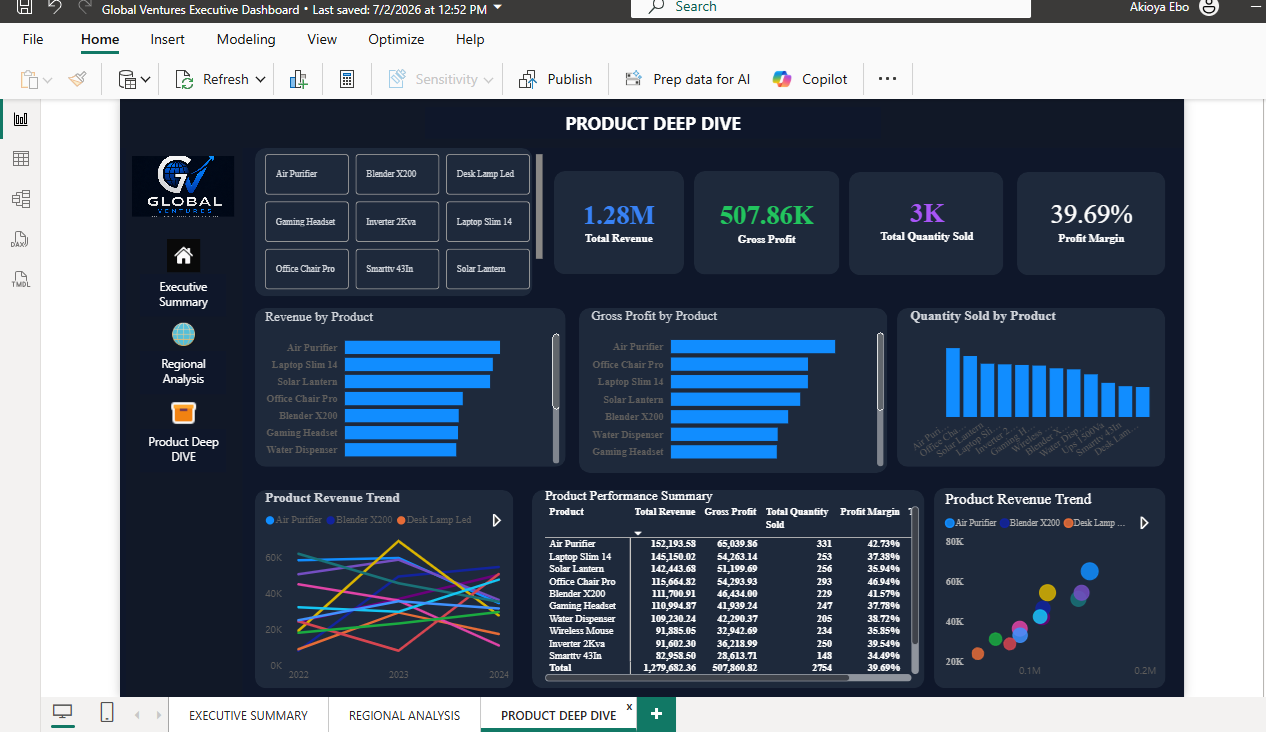

The dashboard page shown, as its layout file describes it:
{"tool":"powerbi","page":{"name":"PRODUCT DEEP DIVE","canvas":[1280,720],"ordinal":2},"visuals":[{"type":"shape","box":[0,0,1280,58.8],"z":0,"group":"g2"},{"type":"group","id":"g1","title":"Group 1","box":[7.8,0,140,720],"z":0,"group":"g15"},{"type":"shape","box":[7.8,0,140,720],"z":0,"group":"g1"},{"type":"group","id":"g2","title":"Group 3","box":[0,0,1280,58.8],"z":1000,"group":"g15"},{"type":"textbox","box":[366.7,10,548.9,37.8],"z":1000,"group":"g2"},{"type":"group","id":"g3","title":"Group 4","box":[162.9,58.6,351.6,178.6],"z":2000,"group":"g15"},{"type":"shape","box":[523.3,86.7,156.7,124.4],"z":2000,"group":"g4"},{"type":"image","box":[15.6,68.9,123.3,73.3],"z":3000,"group":"g14"},{"type":"group","id":"g4","title":"Group 5","box":[523,86.7,157,127],"z":3000,"group":"g15"},{"type":"shape","box":[691.4,86.7,175.2,124.7],"z":3000,"group":"g5"},{"type":"group","id":"g5","title":"Group 6","box":[691,86.7,175.7,125.9],"z":4000,"group":"g15"},{"type":"shape","box":[1080,88.5,178.6,124.3],"z":4000,"group":"g7"},{"type":"image","box":[57.8,168.9,40,40],"z":4000,"group":"g14"},{"type":"group","id":"g6","title":"Group 7","box":[877.1,84.4,185.7,128.4],"z":5000,"group":"g15"},{"type":"textbox","box":[25.6,211.3,104.4,51.1],"z":5000,"group":"g14"},{"type":"group","id":"g7","title":"Group 8","box":[1080,87.1,178.6,125.7],"z":6000,"group":"g15"},{"type":"shape","box":[935.7,251.4,322.9,191.4],"z":6000,"group":"g8"},{"type":"image","box":[57.8,264.9,40,36.7],"z":6000,"group":"g14"},{"type":"group","id":"g8","title":"Group 9","box":[935.7,251.1,322.9,192.2],"z":7000,"group":"g15"},{"type":"shape","box":[162.9,251.4,374.3,191.4],"z":7000,"group":"g10"},{"type":"textbox","box":[25.6,304,104.4,52.2],"z":7000,"group":"g14"},{"type":"group","id":"g9","title":"Group 10","box":[552.9,251.1,371.6,198.9],"z":8000,"group":"g15"},{"type":"shape","box":[552.9,251.4,371.4,198.6],"z":8000,"group":"g9"},{"type":"image","box":[57.8,358.7,40,36.7],"z":8000,"group":"g14"},{"type":"group","id":"g10","title":"Group 11","box":[162.9,251.4,374.3,191.9],"z":9000,"group":"g15"},{"type":"textbox","box":[25.6,397.8,104.4,52.2],"z":9000,"group":"g14"},{"type":"shape","box":[162.5,471.2,311.2,238.8],"z":9000,"group":"g13"},{"type":"group","id":"g11","title":"Group 12","box":[980,468.8,278.8,241.2],"z":10000,"group":"g15"},{"type":"shape","box":[496.2,471.3,472.5,238.8],"z":10000,"group":"g12"},{"type":"shape","box":[980,468.8,278.8,241.2],"z":11000,"group":"g11"},{"type":"group","id":"g12","title":"Group 13","box":[496.2,468.9,472.5,241.1],"z":11000,"group":"g15"},{"type":"shape","box":[162.9,58.6,334.3,178.6],"z":12000,"group":"g3"},{"type":"group","id":"g13","title":"Group 14","box":[162.5,471.1,311.2,238.9],"z":12000,"group":"g15"},{"type":"cardVisual","fields":{"Data":["My Measures.Total Revenue"]},"box":[523,87.1,156.7,126.7],"z":13000,"group":"g4"},{"type":"cardVisual","fields":{"Data":["My Measures.Gross_Profit_USD"]},"box":[691,88.2,175.6,124.4],"z":14000,"group":"g5"},{"type":"cardVisual","fields":{"Data":["My Measures.Profit Margin"]},"box":[1085.7,87.1,167.1,124.3],"z":15000,"group":"g7"},{"type":"shape","box":[877.1,88.5,185.7,124.3],"z":16000,"group":"g6"},{"type":"cardVisual","title":"QUANTITY SOLD","fields":{"Data":["My Measures.Total Quantity Sold"]},"box":[885.5,84.4,171.1,126.7],"z":17000,"group":"g6"},{"type":"advancedSlicerVisual","fields":{"Values":["DIMPRODUCT.Product"]},"box":[170,61.1,344.4,175.6],"z":18000,"group":"g3"},{"type":"clusteredBarChart","title":"Revenue by Product","fields":{"Category":["DIMPRODUCT.Product"],"Y":["My Measures.Total Revenue"]},"box":[170,252.2,364.4,191.1],"z":19000,"group":"g10"},{"type":"clusteredBarChart","title":"Gross Profit by Product","fields":{"Category":["DIMPRODUCT.Product"],"Y":["My Measures.Gross_Profit_USD"]},"box":[562.3,251.1,362.2,195.6],"z":20000,"group":"g9"},{"type":"clusteredColumnChart","title":"Quantity Sold by Product","fields":{"Category":["DIMPRODUCT.Product"],"Y":["My Measures.Total Quantity Sold"]},"box":[946.7,251.1,306.7,192.2],"z":21000,"group":"g8"},{"type":"lineChart","title":"Product Revenue Trend","fields":{"Category":["DimDate.Date.Variation.Date Hierarchy.Year","DimDate.Date.Variation.Date Hierarchy.Quarter","DimDate.Date.Variation.Date Hierarchy.Month","DimDate.Date.Variation.Date Hierarchy.Day"],"Y":["My Measures.Total Revenue"],"Series":["DIMPRODUCT.Product"]},"box":[170,471.1,303.3,238.9],"z":22000,"group":"g13"},{"type":"pivotTable","title":"Product Performance Summary","fields":{"Rows":["DIMPRODUCT.Product"],"Values":["My Measures.Total Revenue","My Measures.Gross_Profit_USD","My Measures.Total Quantity Sold","My Measures.Profit Margin","My Measures.Total Orders"]},"box":[506.6,468.9,460,237.8],"z":23000,"group":"g12"},{"type":"scatterChart","title":"Product Revenue Trend","fields":{"X":["My Measures.Total Revenue"],"Y":["My Measures.Gross_Profit_USD"],"Size":["My Measures.Total Quantity Sold"],"Series":["DIMPRODUCT.Product"]},"box":[988.9,471.2,264.4,235.6],"z":24000,"group":"g11"},{"type":"group","id":"g14","title":"Group 2","box":[15.6,68.9,123.3,381.1],"z":24001,"group":"g1"},{"type":"group","id":"g15","title":"Group 15","box":[0,0,1280,720],"z":24013}]}

Visuals, with their boxes on the page's 1280x720 design canvas (x1, y1, x2, y2). These are canvas units, not pixel positions in the 1266x732 screenshot, which may show the page scaled, cropped or inside an application window:
shape: x1=0 y1=0 x2=1280 y2=59
"Group 1" group: x1=8 y1=0 x2=148 y2=720
shape: x1=8 y1=0 x2=148 y2=720
"Group 3" group: x1=0 y1=0 x2=1280 y2=59
textbox: x1=367 y1=10 x2=916 y2=48
"Group 4" group: x1=163 y1=59 x2=514 y2=237
shape: x1=523 y1=87 x2=680 y2=211
image: x1=16 y1=69 x2=139 y2=142
"Group 5" group: x1=523 y1=87 x2=680 y2=214
shape: x1=691 y1=87 x2=867 y2=211
"Group 6" group: x1=691 y1=87 x2=867 y2=213
shape: x1=1080 y1=88 x2=1259 y2=213
image: x1=58 y1=169 x2=98 y2=209
"Group 7" group: x1=877 y1=84 x2=1063 y2=213
textbox: x1=26 y1=211 x2=130 y2=262
"Group 8" group: x1=1080 y1=87 x2=1259 y2=213
shape: x1=936 y1=251 x2=1259 y2=443
image: x1=58 y1=265 x2=98 y2=302
"Group 9" group: x1=936 y1=251 x2=1259 y2=443
shape: x1=163 y1=251 x2=537 y2=443
textbox: x1=26 y1=304 x2=130 y2=356
"Group 10" group: x1=553 y1=251 x2=924 y2=450
shape: x1=553 y1=251 x2=924 y2=450
image: x1=58 y1=359 x2=98 y2=395
"Group 11" group: x1=163 y1=251 x2=537 y2=443
textbox: x1=26 y1=398 x2=130 y2=450
shape: x1=162 y1=471 x2=474 y2=710
"Group 12" group: x1=980 y1=469 x2=1259 y2=710
shape: x1=496 y1=471 x2=969 y2=710
shape: x1=980 y1=469 x2=1259 y2=710
"Group 13" group: x1=496 y1=469 x2=969 y2=710
shape: x1=163 y1=59 x2=497 y2=237
"Group 14" group: x1=162 y1=471 x2=474 y2=710
cardVisual - My Measures.Total Revenue: x1=523 y1=87 x2=680 y2=214
cardVisual - My Measures.Gross_Profit_USD: x1=691 y1=88 x2=867 y2=213
cardVisual - My Measures.Profit Margin: x1=1086 y1=87 x2=1253 y2=211
shape: x1=877 y1=88 x2=1063 y2=213
"QUANTITY SOLD" cardVisual: x1=886 y1=84 x2=1057 y2=211
advancedSlicerVisual - DIMPRODUCT.Product: x1=170 y1=61 x2=514 y2=237
"Revenue by Product" clusteredBarChart: x1=170 y1=252 x2=534 y2=443
"Gross Profit by Product" clusteredBarChart: x1=562 y1=251 x2=924 y2=447
"Quantity Sold by Product" clusteredColumnChart: x1=947 y1=251 x2=1253 y2=443
"Product Revenue Trend" lineChart: x1=170 y1=471 x2=473 y2=710
"Product Performance Summary" pivotTable: x1=507 y1=469 x2=967 y2=707
"Product Revenue Trend" scatterChart: x1=989 y1=471 x2=1253 y2=707
"Group 2" group: x1=16 y1=69 x2=139 y2=450
"Group 15" group: x1=0 y1=0 x2=1280 y2=720
